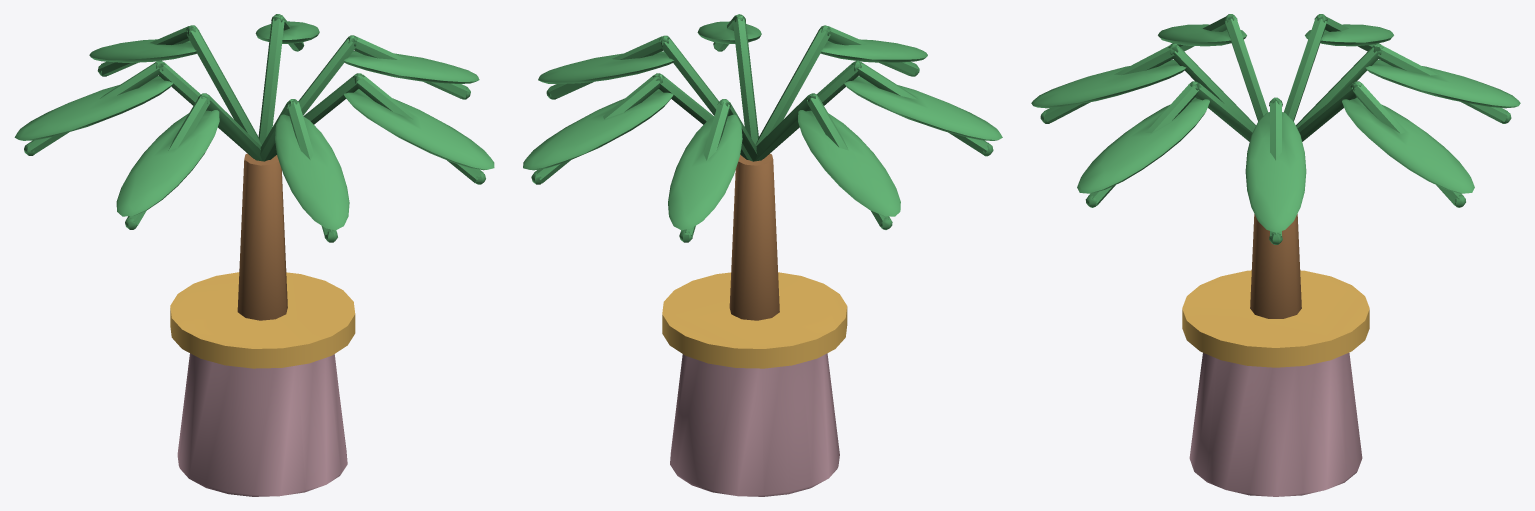
The model's file is plant-pot-palm.glb.
The picture shows the model from 3 angles, left to right: view 1: azimuth 30°, elevation 25°; view 2: azimuth 150°, elevation 25°; view 3: azimuth 270°, elevation 25°; orthographic projection.
Parts seen in each view (by area): view 1: plant-pot-palm; view 2: plant-pot-palm; view 3: plant-pot-palm.
Part boxes in pixels (x1=…): plant-pot-palm: x1=14, y1=14, x2=494, y2=496; plant-pot-palm: x1=523, y1=14, x2=1002, y2=496; plant-pot-palm: x1=1031, y1=14, x2=1520, y2=496.
Bounding box in the file's own units: 1.21 × 1.14 × 1.24.
